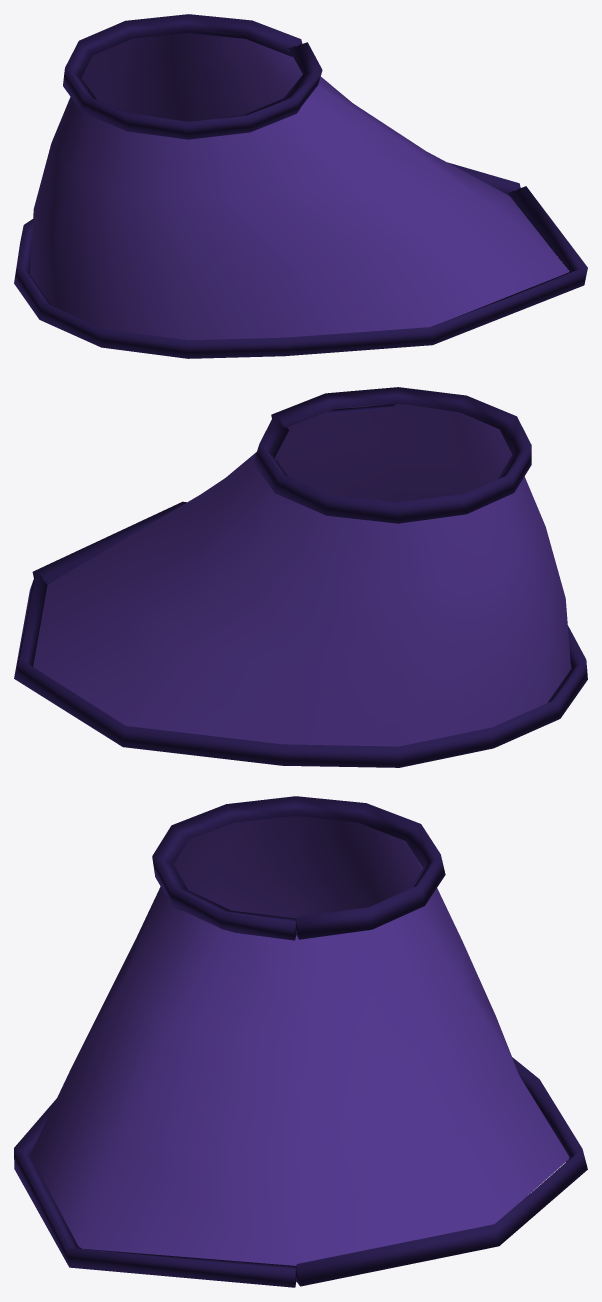
File: beetle_armor_pauldron.L.glb
The picture shows the model from 3 angles, top to bottom: view 1: azimuth 30°, elevation 25°; view 2: azimuth 150°, elevation 25°; view 3: azimuth 270°, elevation 25°; orthographic projection. The views are drawn at different scales.
Parts seen in each view (by area): view 1: beetle_armor_pauldron.L; view 2: beetle_armor_pauldron.L; view 3: beetle_armor_pauldron.L.
Boxes of the visible parts, box(x1,y1,x2,y2) form: beetle_armor_pauldron.L: box(14, 14, 587, 358); beetle_armor_pauldron.L: box(14, 387, 587, 767); beetle_armor_pauldron.L: box(14, 796, 587, 1287).
Bounding box in the file's own units: 0.3835 × 0.1645 × 0.3439.
